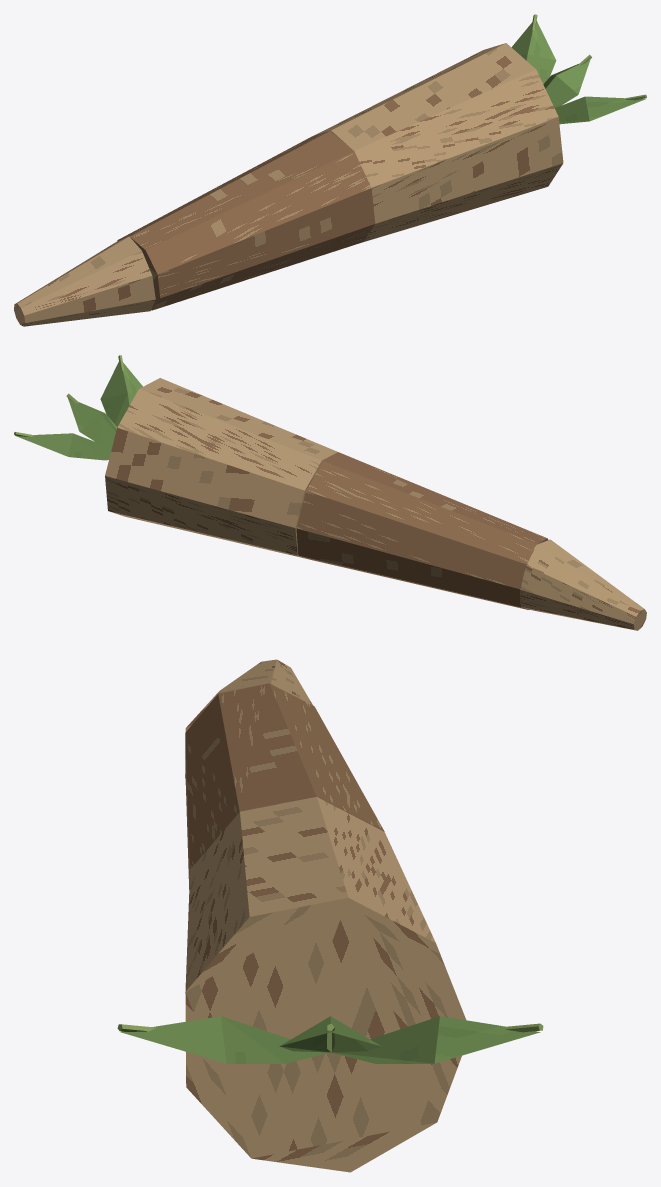
The model's file is salsify_raw.glb.
The picture shows the model from 3 angles, top to bottom: view 1: azimuth 30°, elevation 25°; view 2: azimuth 150°, elevation 25°; view 3: azimuth 270°, elevation 25°; orthographic projection. The views are drawn at different scales.
Parts seen in each view (by area): view 1: block_tapering root 2, block_tapering root 1, block_tapering root 0, block_trimmed leaf stalk tip (×3), block_trimmed leaf stalk blade (×3); view 2: block_tapering root 2, block_tapering root 1, block_tapering root 0, block_trimmed leaf stalk blade (×3), block_trimmed leaf stalk tip (×3); view 3: block_tapering root 2, block_tapering root 1, block_trimmed leaf stalk blade (×2), block_trimmed leaf stalk tip (×2), block_tapering root 0.
Part boxes in pixels (left/top/right/bottom): block_tapering root 2: left=313, top=43, right=563, bottom=241; block_tapering root 1: left=117, top=131, right=375, bottom=310; block_tapering root 0: left=14, top=236, right=155, bottom=326; block_trimmed leaf stalk tip (×3): left=527, top=21, right=645, bottom=121; block_trimmed leaf stalk blade (×3): left=527, top=54, right=589, bottom=124; block_tapering root 2: left=105, top=378, right=337, bottom=559; block_tapering root 1: left=296, top=452, right=548, bottom=609; block_tapering root 0: left=520, top=539, right=646, bottom=630; block_trimmed leaf stalk blade (×3): left=68, top=393, right=129, bottom=460; block_trimmed leaf stalk tip (×3): left=15, top=362, right=127, bottom=456; block_tapering root 2: left=185, top=796, right=466, bottom=1172; block_tapering root 1: left=185, top=683, right=384, bottom=889; block_trimmed leaf stalk blade (×2): left=221, top=1016, right=439, bottom=1063; block_trimmed leaf stalk tip (×2): left=120, top=1016, right=540, bottom=1063; block_tapering root 0: left=185, top=659, right=312, bottom=778.
Size of the model in its own units: 0.1436 by 0.0355 by 0.0472.
Materials: 2 (2 with a texture image).
